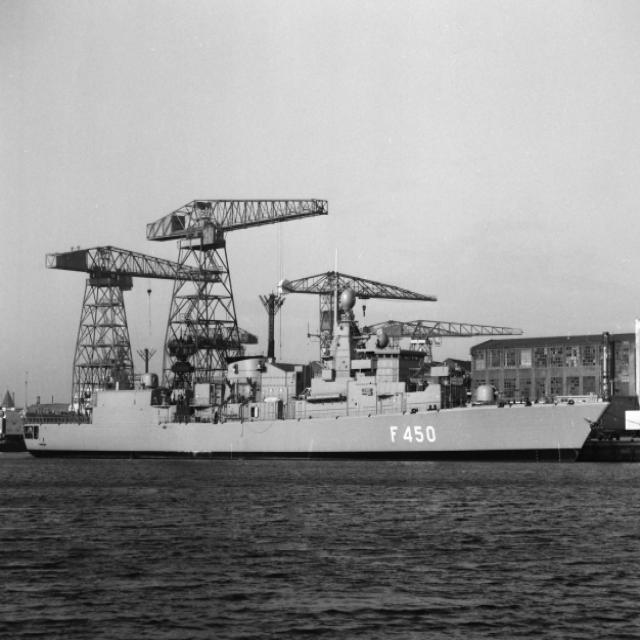Fragata: (22, 253, 614, 465)
